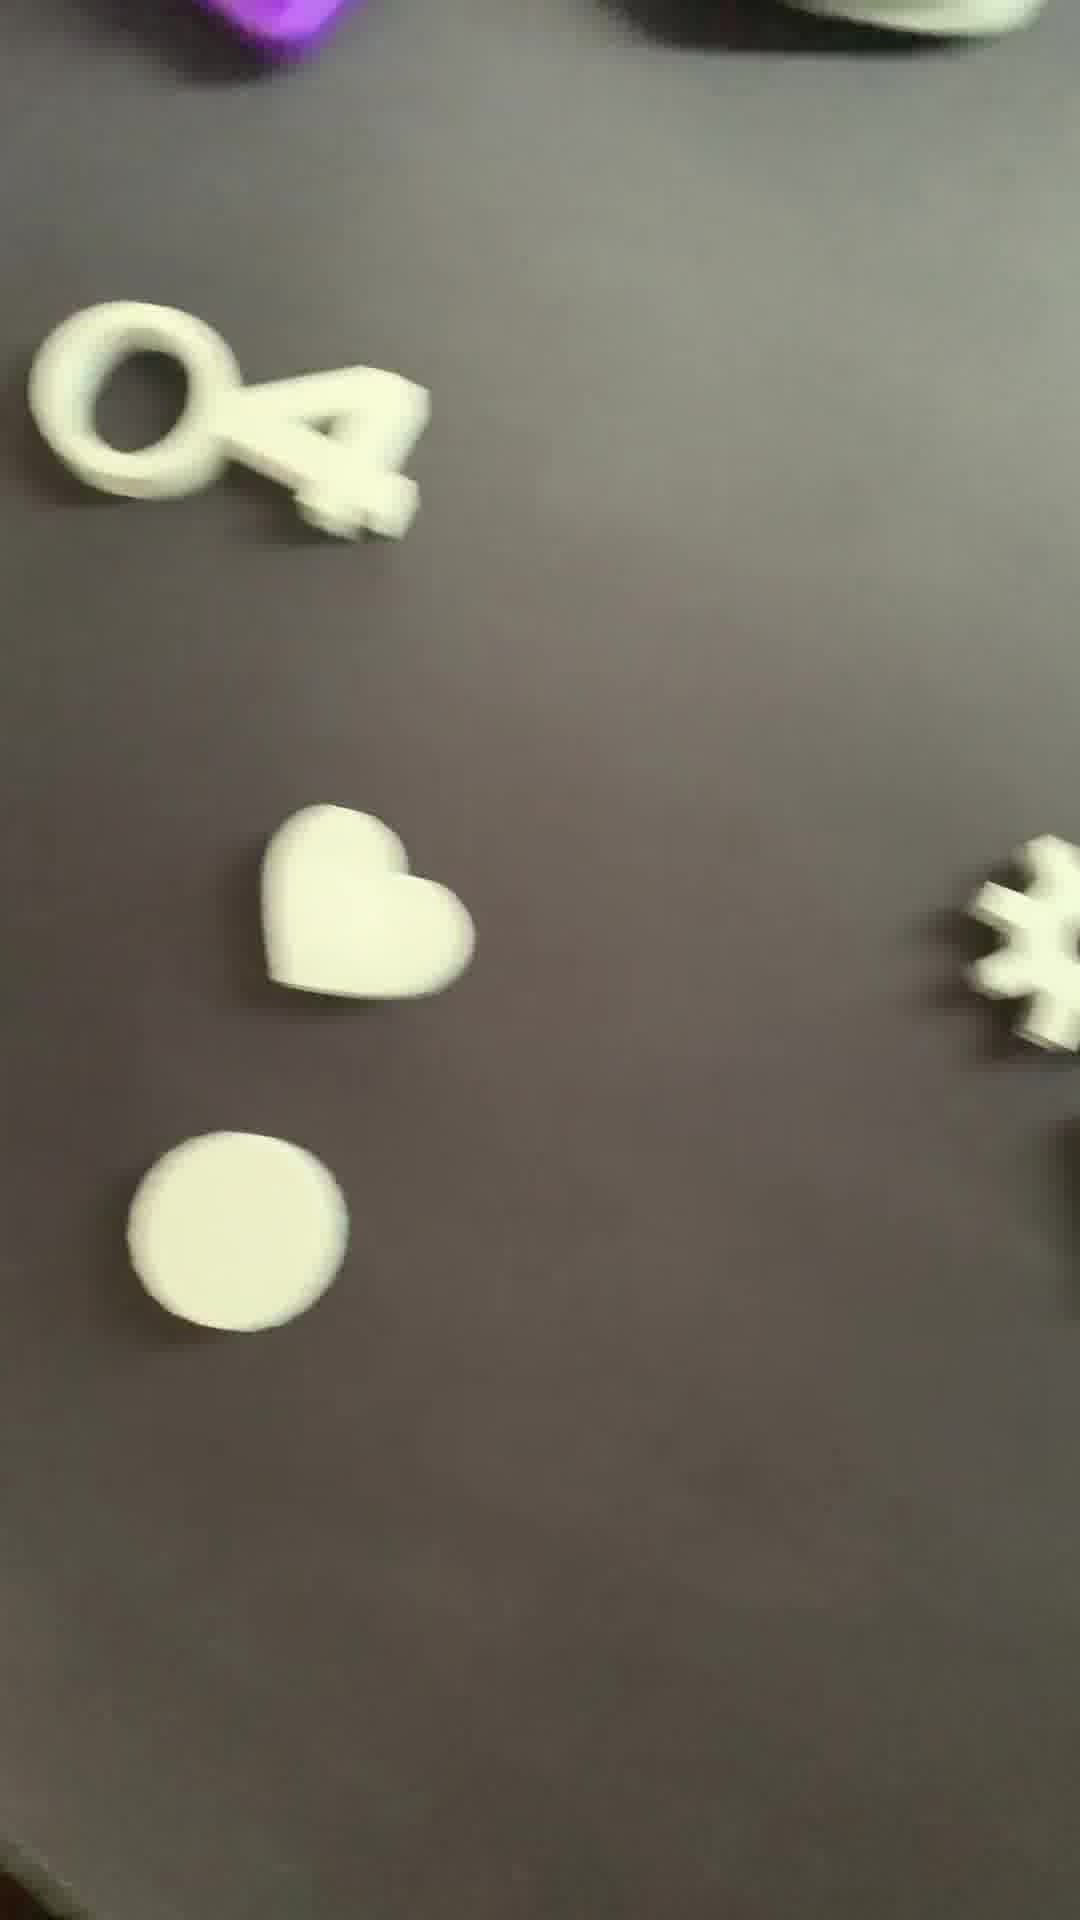Gray circle: (112, 1112, 359, 1345)
Gray four: (233, 348, 443, 550)
Gray gear: (964, 836, 1080, 1059)
Gray heart: (249, 800, 464, 1006)
Gray ring: (26, 305, 249, 498)
